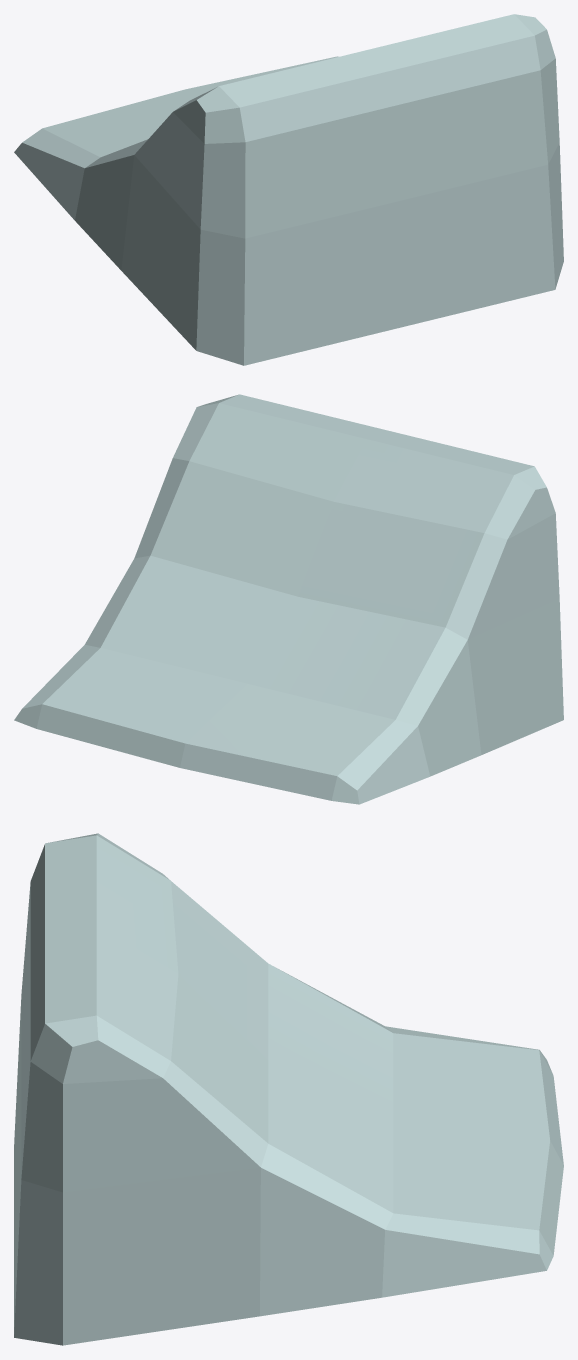
The model's file is sport_snow-jump.fbx.
The picture shows the model from 3 angles, top to bottom: view 1: azimuth 30°, elevation 25°; view 2: azimuth 150°, elevation 25°; view 3: azimuth 270°, elevation 25°; orthographic projection. The views are drawn at different scales.
Parts seen in each view (by area): view 1: sport_snow_jump; view 2: sport_snow_jump; view 3: sport_snow_jump.
Boxes of the visible parts, <box> form: sport_snow_jump: <box>14,14,563,365</box>; sport_snow_jump: <box>14,394,563,804</box>; sport_snow_jump: <box>14,833,563,1345</box>.
Bounding box in the file's own units: 193 × 127 × 200.
